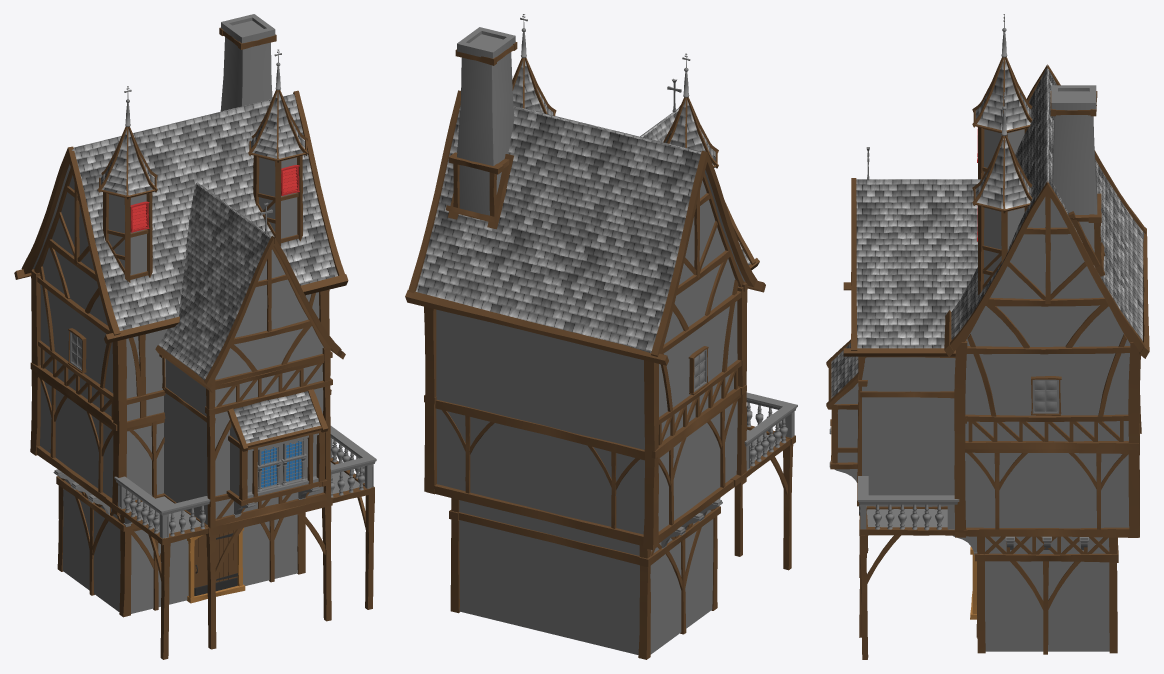
The model's file is SM_house_05.fbx.
The picture shows the model from 3 angles, left to right: view 1: azimuth 30°, elevation 25°; view 2: azimuth 150°, elevation 25°; view 3: azimuth 270°, elevation 25°; orthographic projection. The views are drawn at different scales.
Visible parts, largest first — view 1: Object32599; view 2: Object32599; view 3: Object32599.
Boxes of the visible parts, left/top/right/bottom form: Object32599: left=14, top=14, right=376, bottom=659; Object32599: left=405, top=14, right=797, bottom=659; Object32599: left=826, top=14, right=1149, bottom=659.
Bounding box in the file's own units: 353 × 730 × 386.
10 materials, 1 textured.
